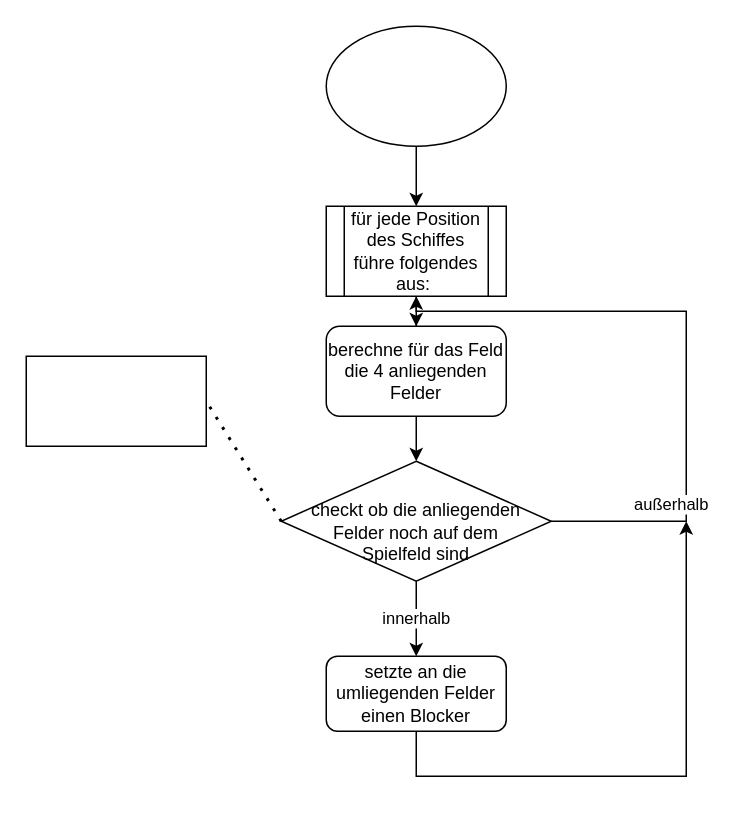
This 735x815 diagram has some shape labels left out. The shapes that lost their labels are listed below. From the top down, each one's centre as x and y in pixels, then its label:
At (x=415, y=85): "addPlacementBlocker".
At (x=115, y=400): "jeweils die diagonalen und in den anliegenden Feldern".
